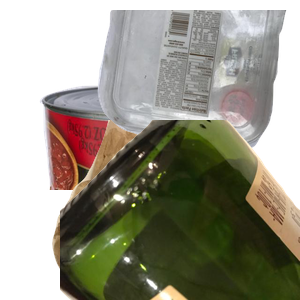glass: (60, 120, 300, 300)
metal: (37, 81, 277, 261)
plastic: (95, 10, 300, 154)
trash: (50, 120, 285, 300)
